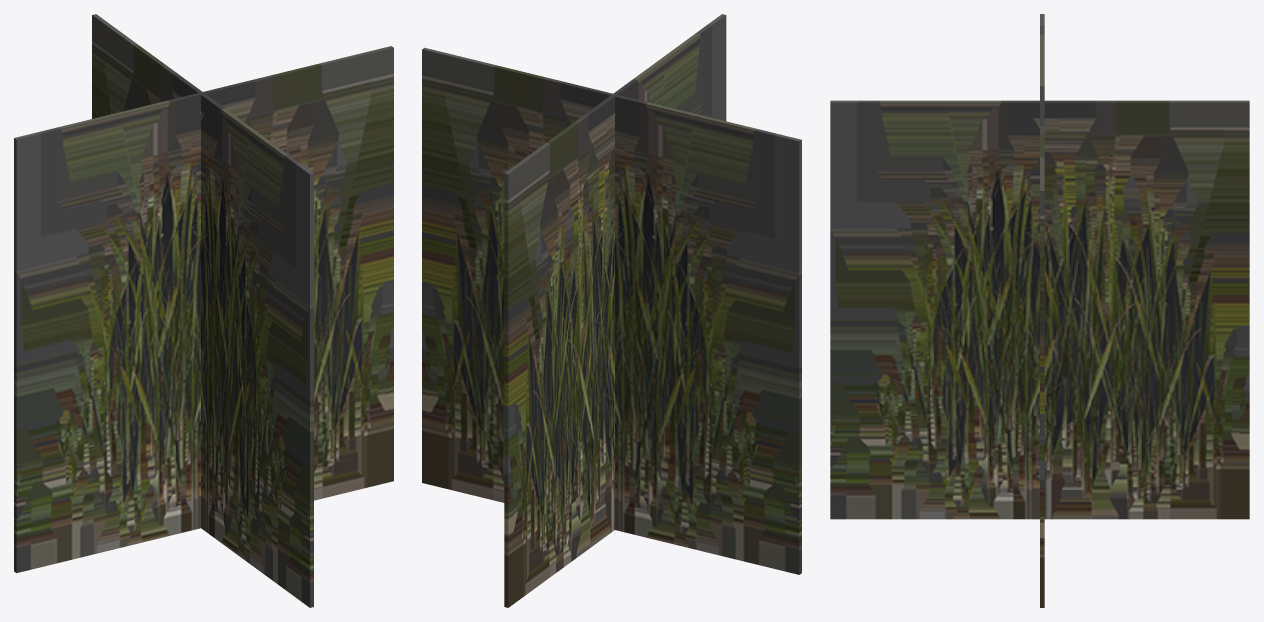
File: Grass.fbx
The picture shows the model from 3 angles, left to right: view 1: azimuth 30°, elevation 25°; view 2: azimuth 150°, elevation 25°; view 3: azimuth 270°, elevation 25°; orthographic projection. The views are drawn at different scales.
Visible parts, largest first — view 1: grass1; view 2: grass1; view 3: grass1.
Boxes of the visible parts, <box> form: grass1: <box>14,14,393,607</box>; grass1: <box>422,14,801,607</box>; grass1: <box>830,14,1249,607</box>.
Bounding box in the file's own units: 91.1 × 100 × 91.1.
